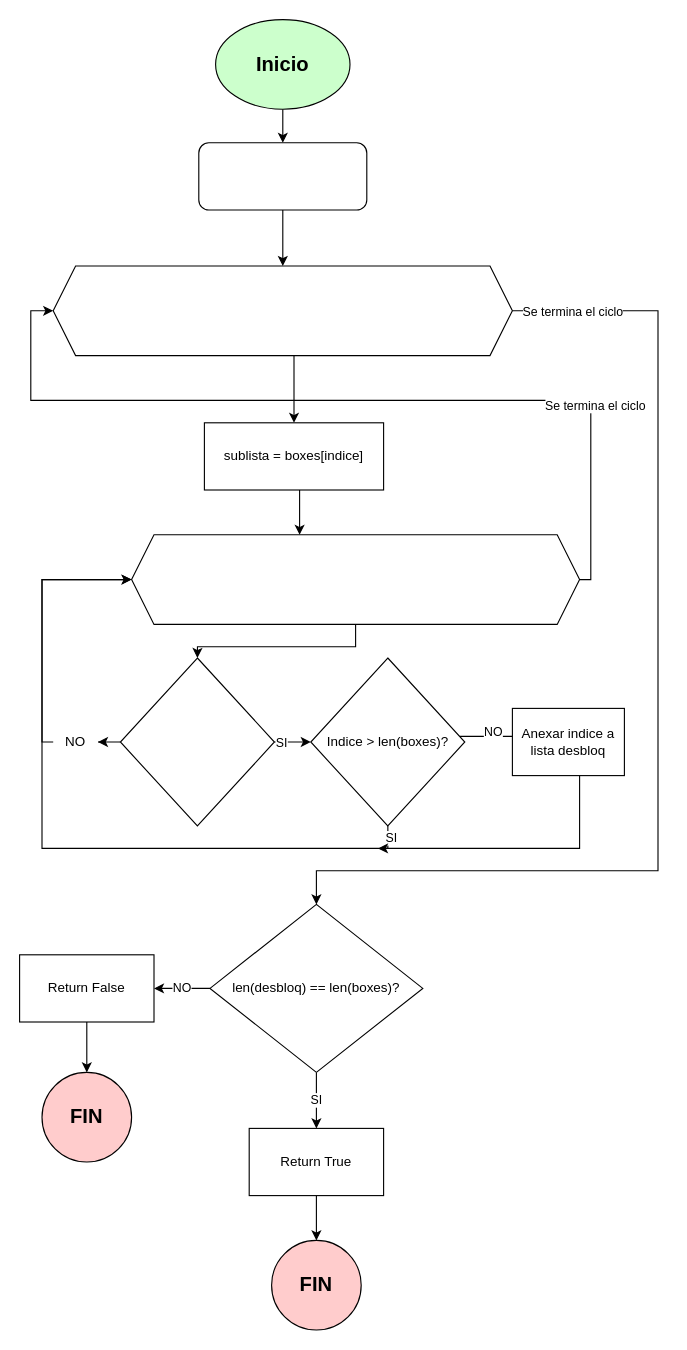
Some shapes in this 687 by 1350 pixel diagram are drawn without their labels. The box of each missing label's shape, as (x1, y1, x2, y2) in pixels:
Está el indice dentro de la sublista?: (119, 657, 274, 826)
lista desbloq = [ 0 ]: (198, 142, 367, 210)
Para cada indice en la lista desbloq:: (52, 265, 512, 356)
Para cada indice en la sublista:: (130, 534, 580, 624)
